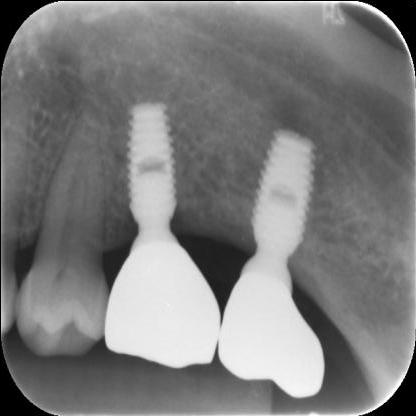Bicon: (240, 110, 326, 264), (116, 101, 196, 240)
